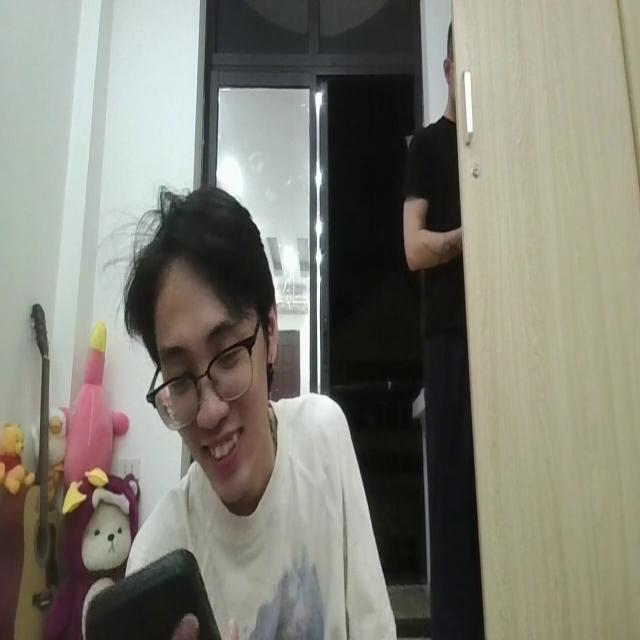extra_person: (408, 1, 477, 640)
phone: (84, 537, 223, 640)
student: (86, 178, 400, 640)
